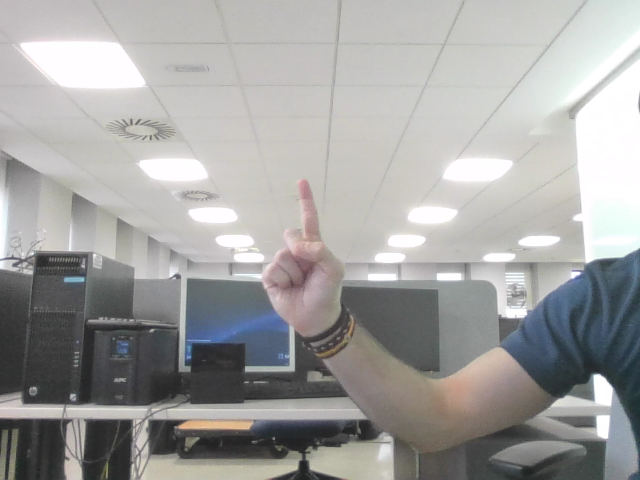1Dedo: (275, 189, 330, 290)
